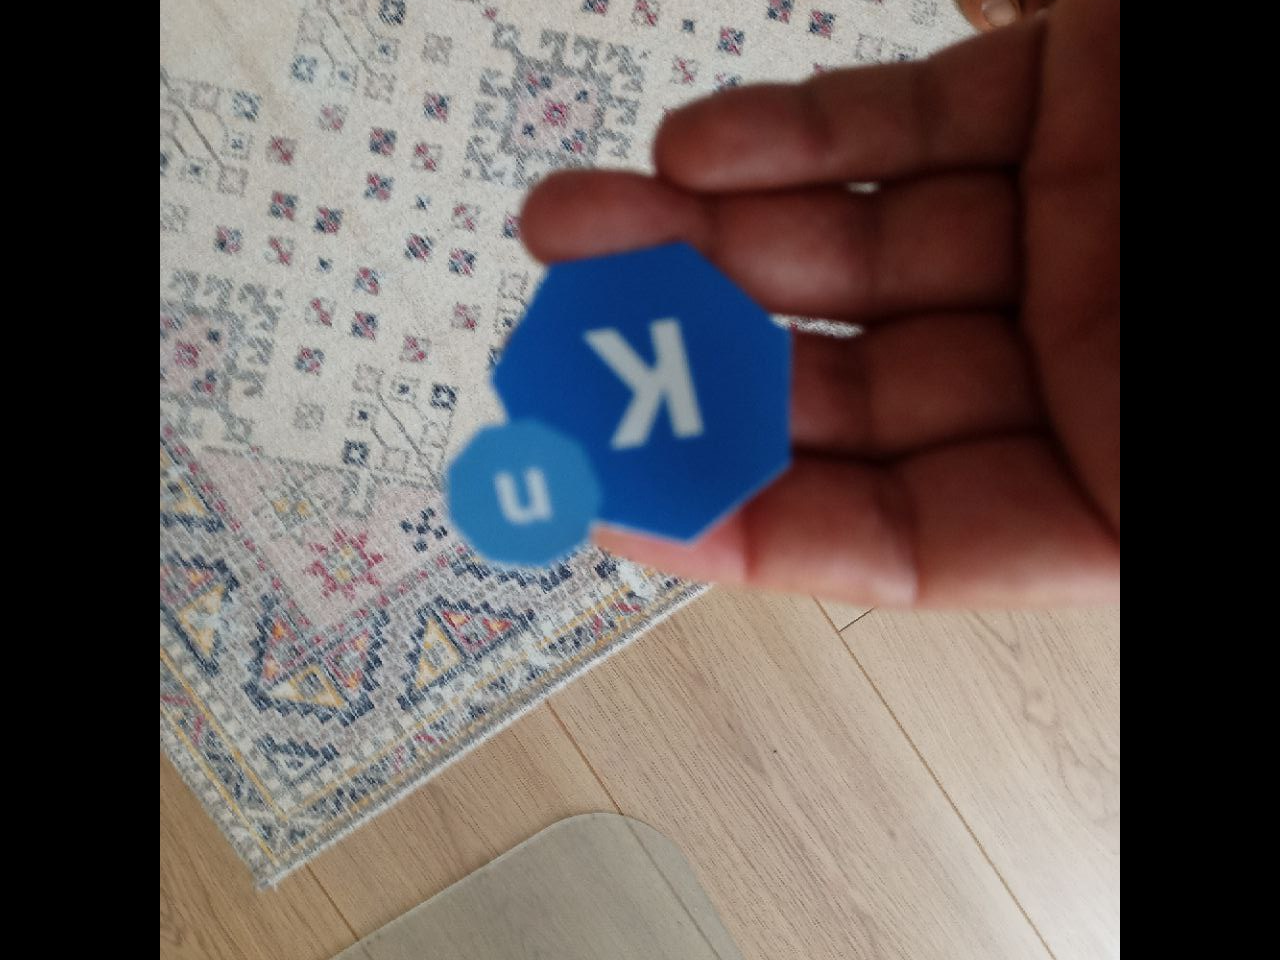knative: (443, 233, 791, 572)
